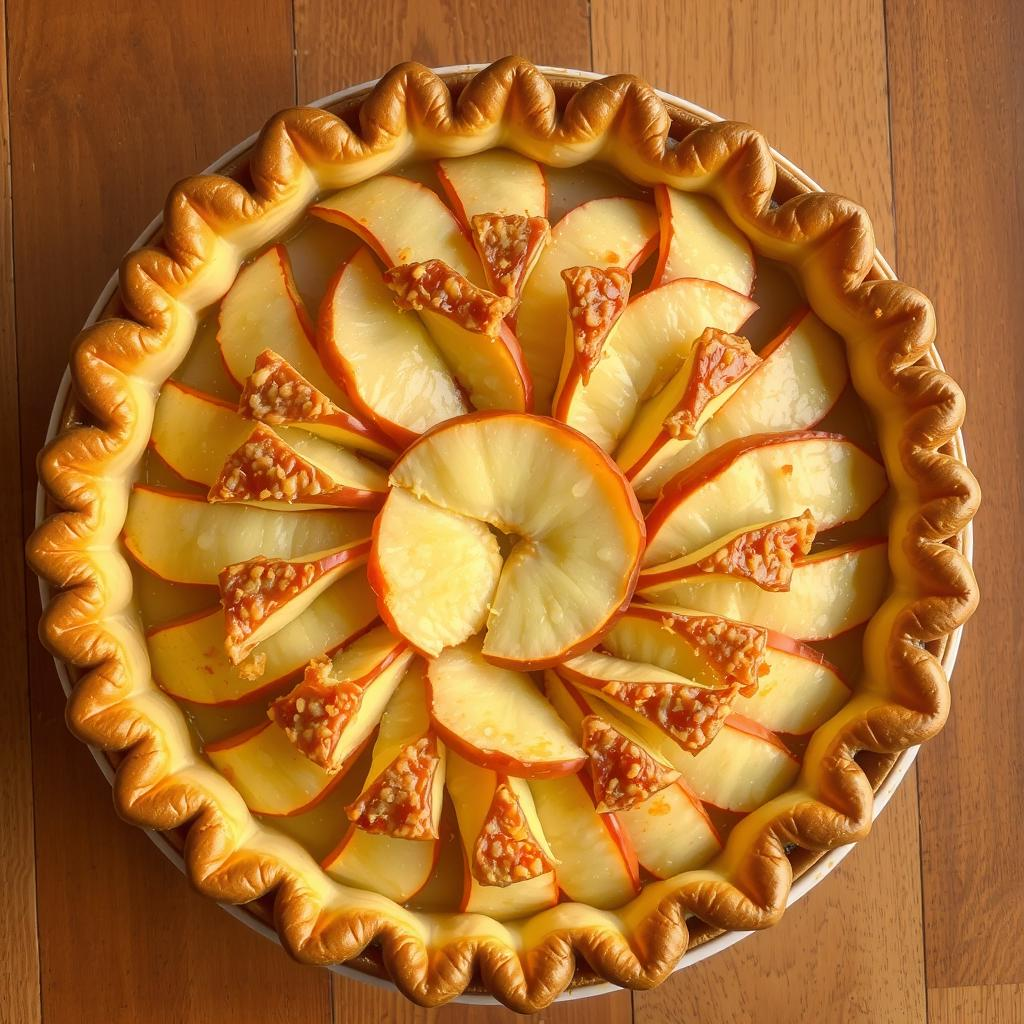pie: (20, 47, 977, 1013)
